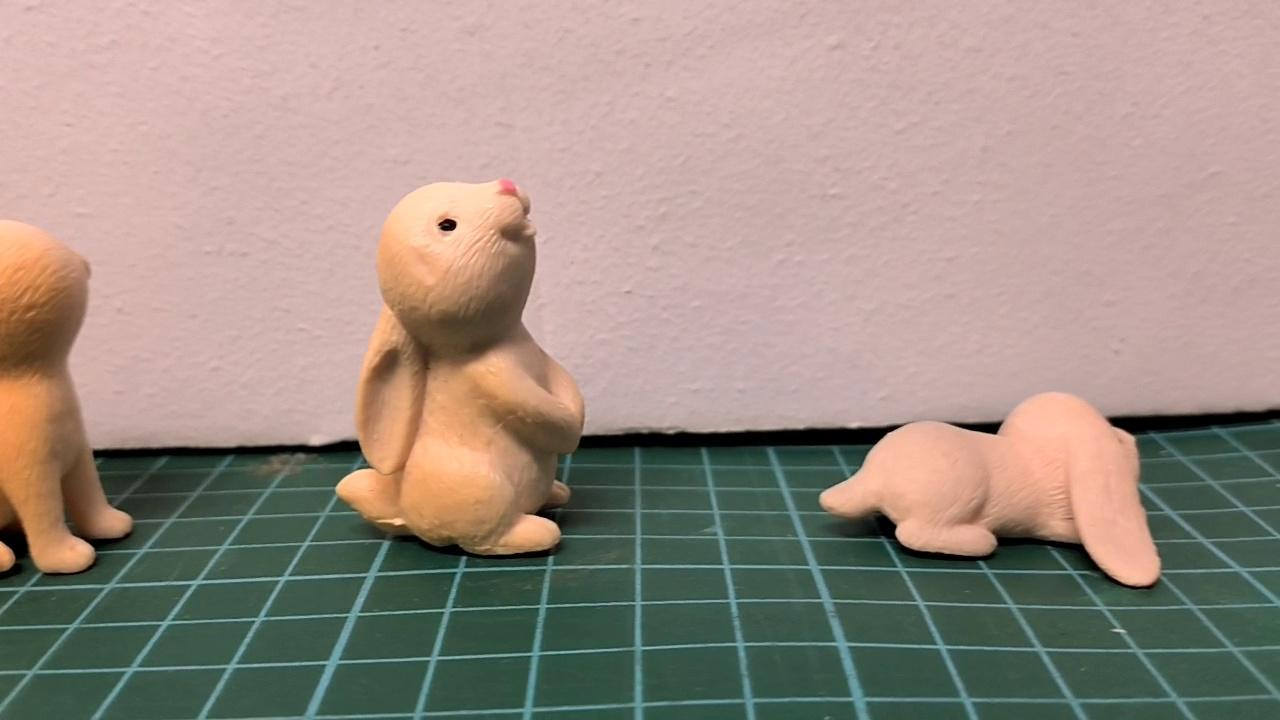pet: (333, 177, 588, 558), (818, 391, 1161, 586), (0, 217, 136, 574)
